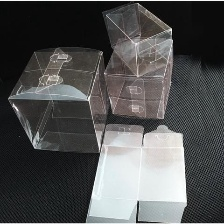plastic_box: (1, 40, 115, 158), (79, 117, 190, 223), (99, 32, 178, 123), (97, 0, 176, 80)
